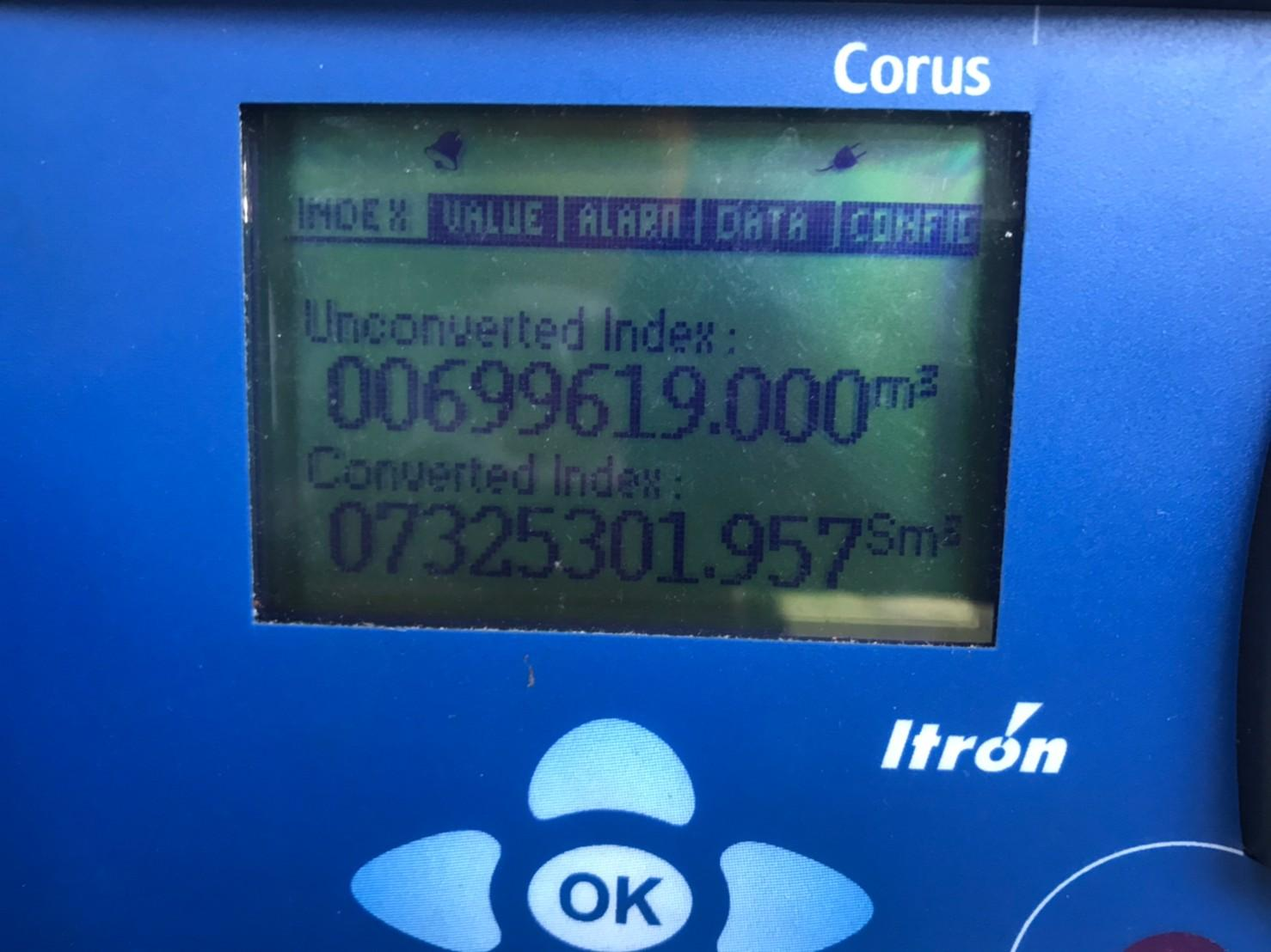digital_screen: (225, 88, 1031, 647)
